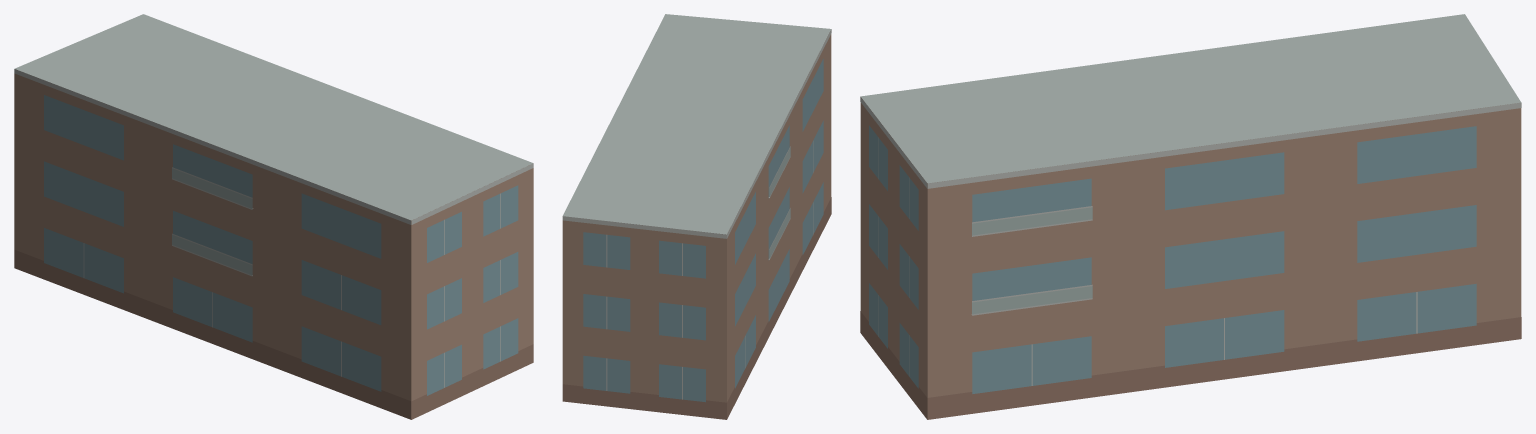
File: survey-upis-32642118.glb
The picture shows the model from 3 angles, left to right: view 1: azimuth 30°, elevation 25°; view 2: azimuth 150°, elevation 25°; view 3: azimuth 270°, elevation 25°; orthographic projection. The views are drawn at different scales.
Parts seen in each view (by area): view 1: survey-upis-32642118.tmp; view 2: survey-upis-32642118.tmp; view 3: survey-upis-32642118.tmp.
Part boxes in pixels (box(x1,y1,x2,y2)): survey-upis-32642118.tmp: box(14, 14, 533, 419); survey-upis-32642118.tmp: box(562, 14, 831, 419); survey-upis-32642118.tmp: box(860, 14, 1521, 419).
Size of the model in its own units: 16.14 by 10.5 by 26.61.
